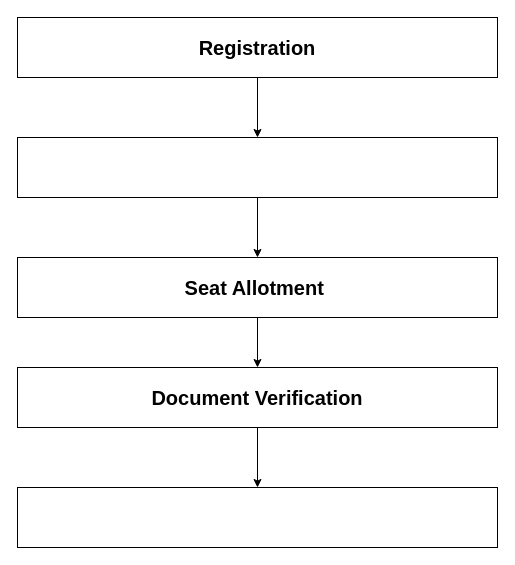
Some shapes in this 515 by 565 pixel diagram are drawn without their labels. Here are the shapes that lost their labels. From the top down, the centre of each, then its label:
At [257,167]: "Choice Filling".
At [257,517]: "Physical Reporting to Colleges with Documents & DD of Fee".
